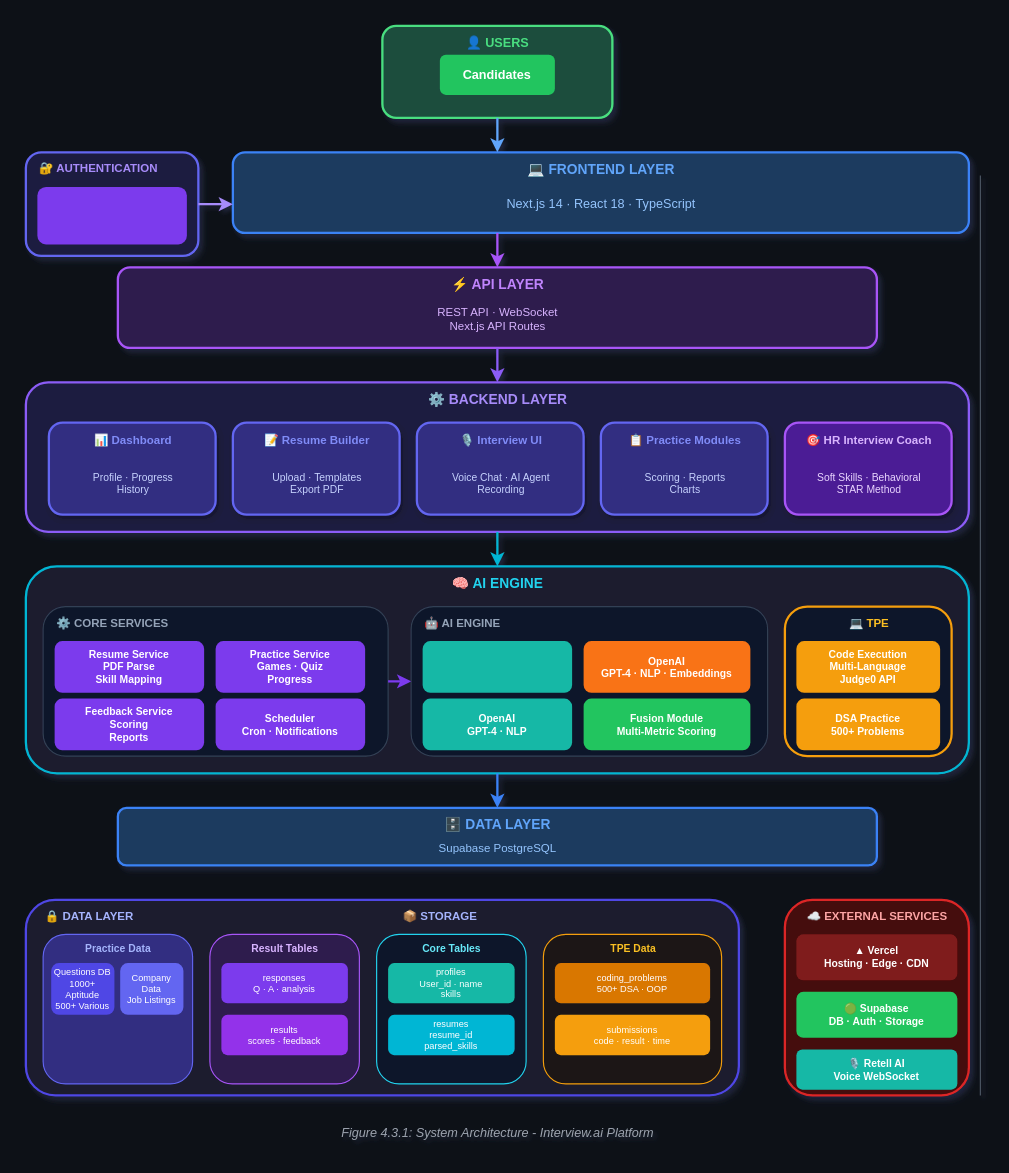
This 1009x1173 diagram has some shape labels left out. The shapes that lost their labels are listed below. From the top down, each one's centre as x and y in pixels, then its label:
At [111,215]: "Clerk Auth Sign Up · Sign In · Sessions".
At [497,666]: "Retell AI Voice STT / TTS".
